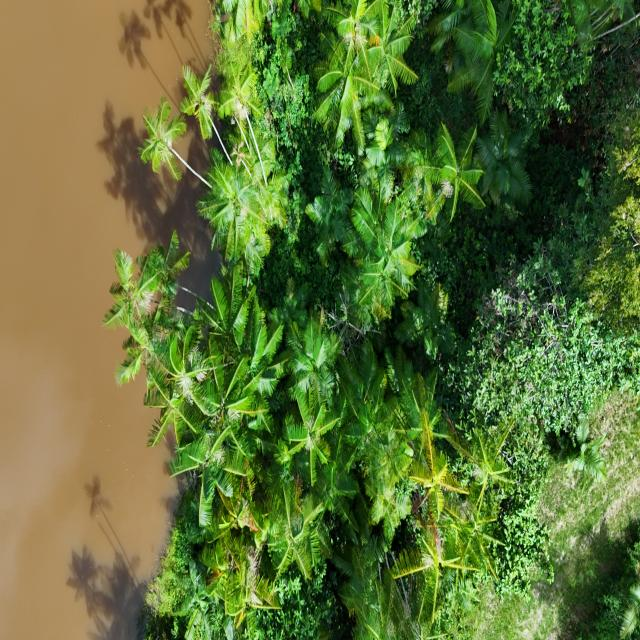vegetation: (101, 1, 637, 638)
